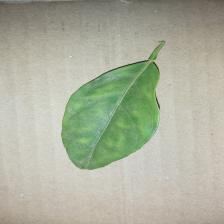greening: (54, 35, 169, 173)
